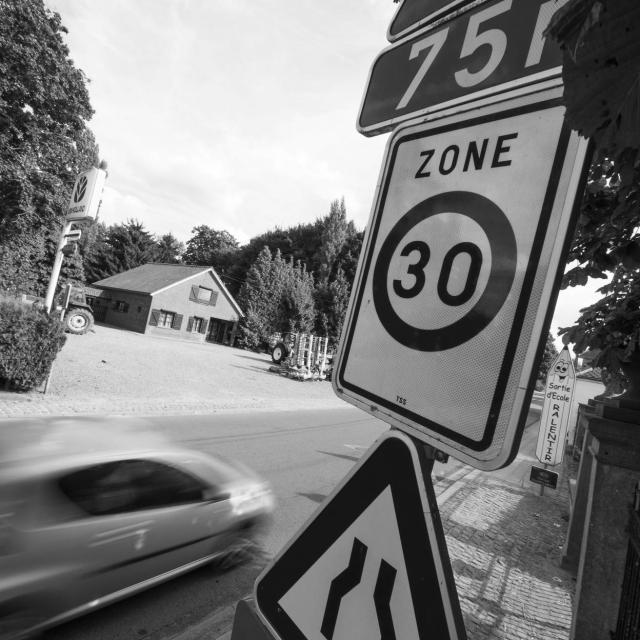danger: (240, 427, 467, 640)
speed_30: (304, 86, 609, 461), (373, 184, 520, 356)
